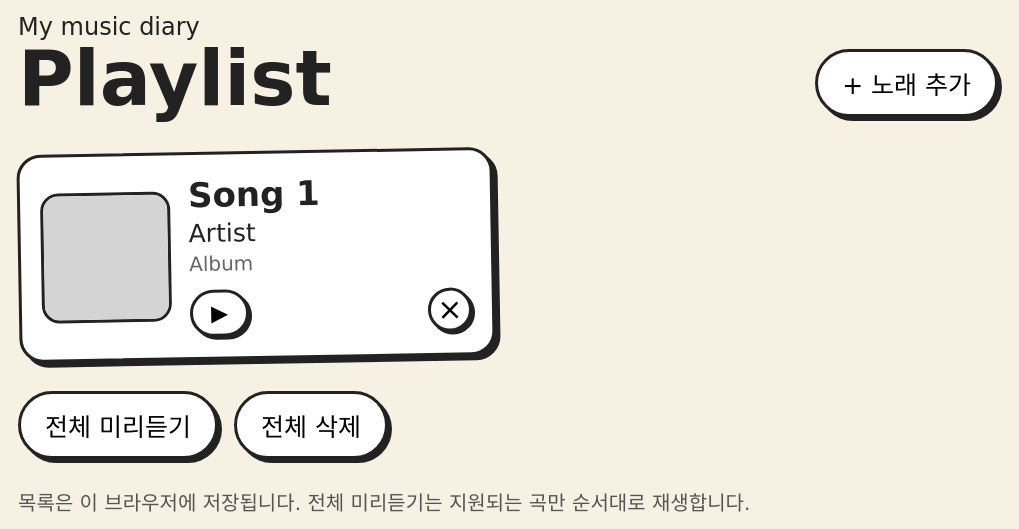
storage event updates screen and stops removed audio
Click the button "전체 미리듣기" at (118, 425), box [18, 391, 218, 459]
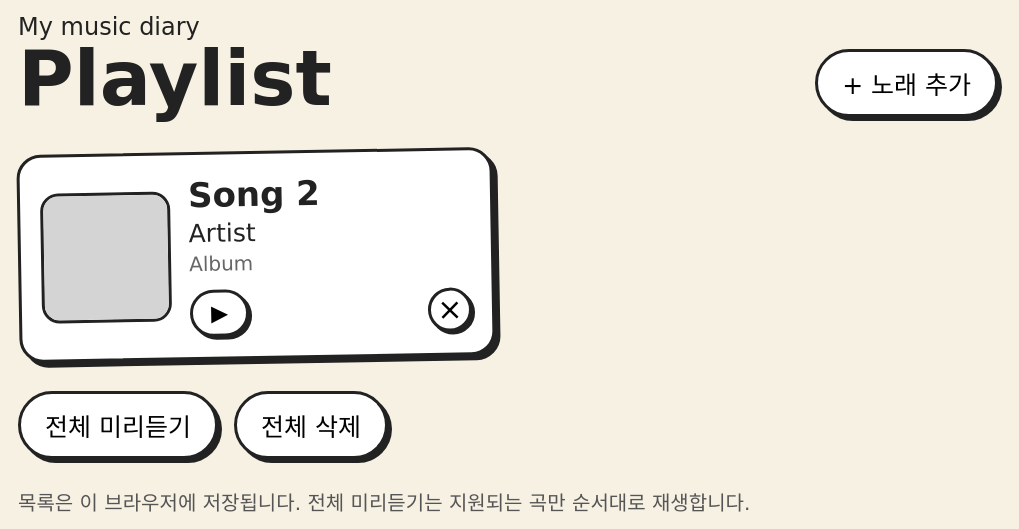
Expected: the heading "Song 2" is shown, [188, 173, 320, 215]
